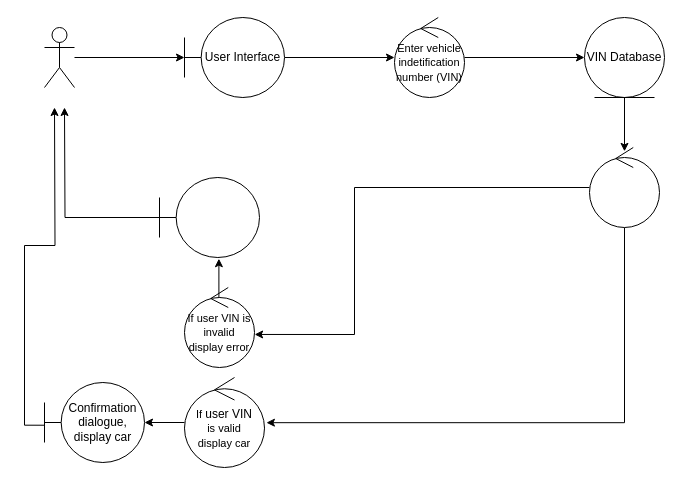
Some shapes in this 682 by 485 pixel diagram are drawn without their labels. Here are the shapes that lost their labels. From the top down, the box of each, then its label:
(44, 26, 74, 88): User
(588, 146, 660, 228): Validate users VIN
(158, 176, 260, 258): Error Dialogue
